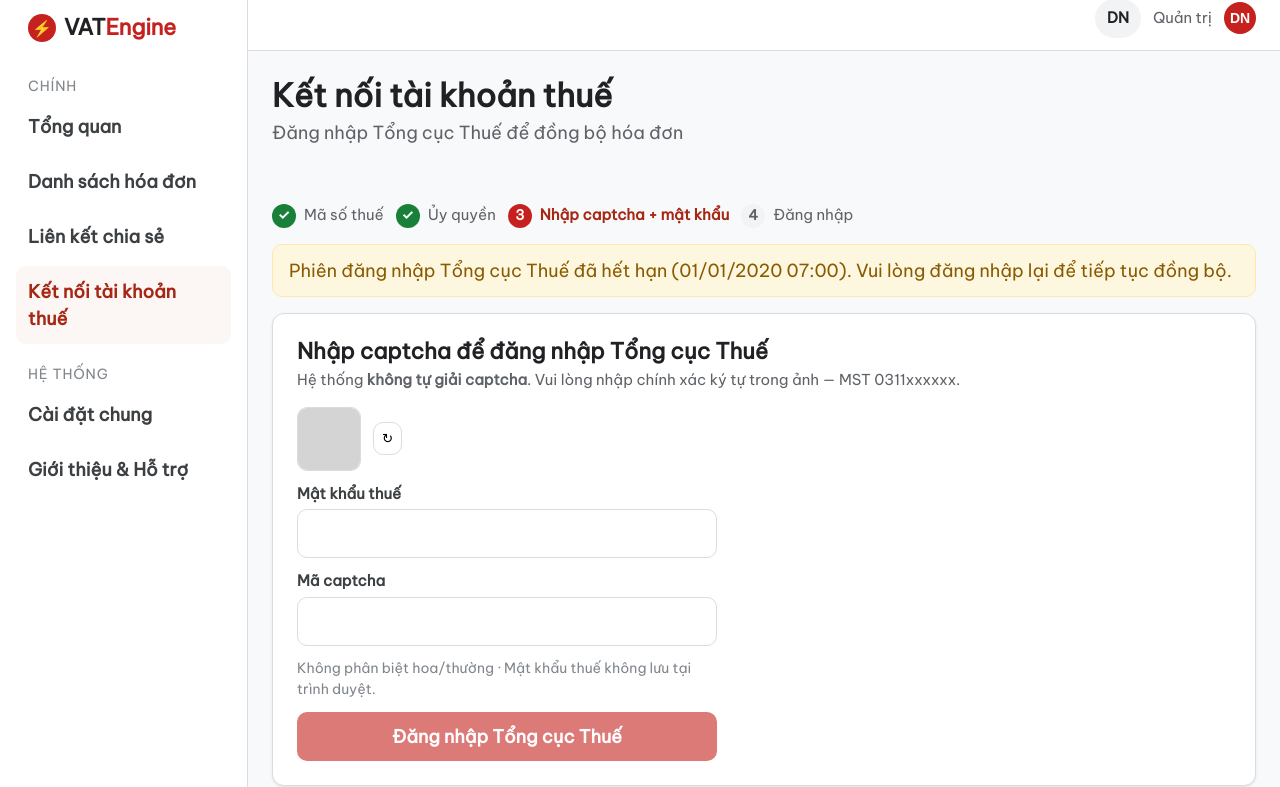
Test: S5 / U23-D4 — kết nối tài khoản thuế › (g) mất mạng khi đăng nhập GDT → 'Không kết nối được với Tổng cục Thuế'
Type "matkhauthue" into the password field labelled "Mật khẩu thuế" at point(507, 534), box top-left (297, 509), bottom-right (717, 558)
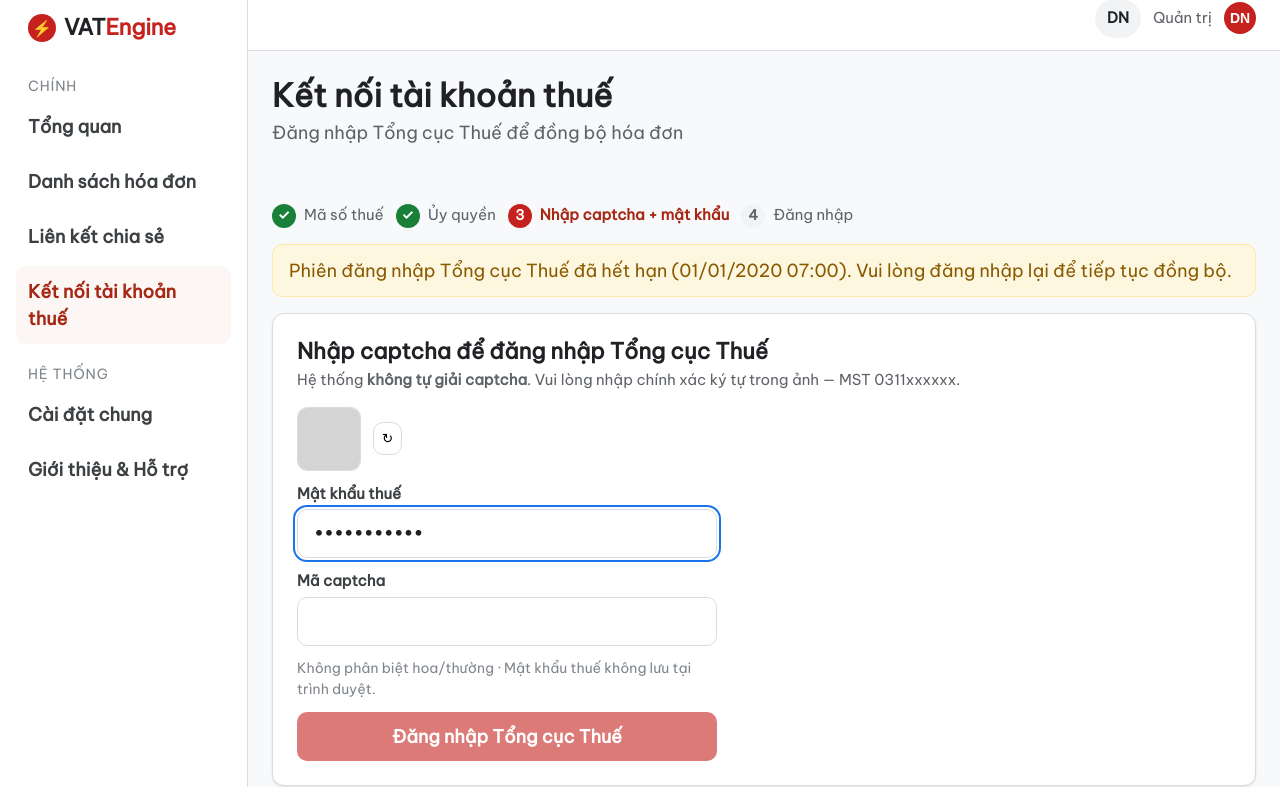
Type "7K9P2" into the field labelled "Mã captcha" at point(507, 621), box top-left (297, 596), bottom-right (717, 646)
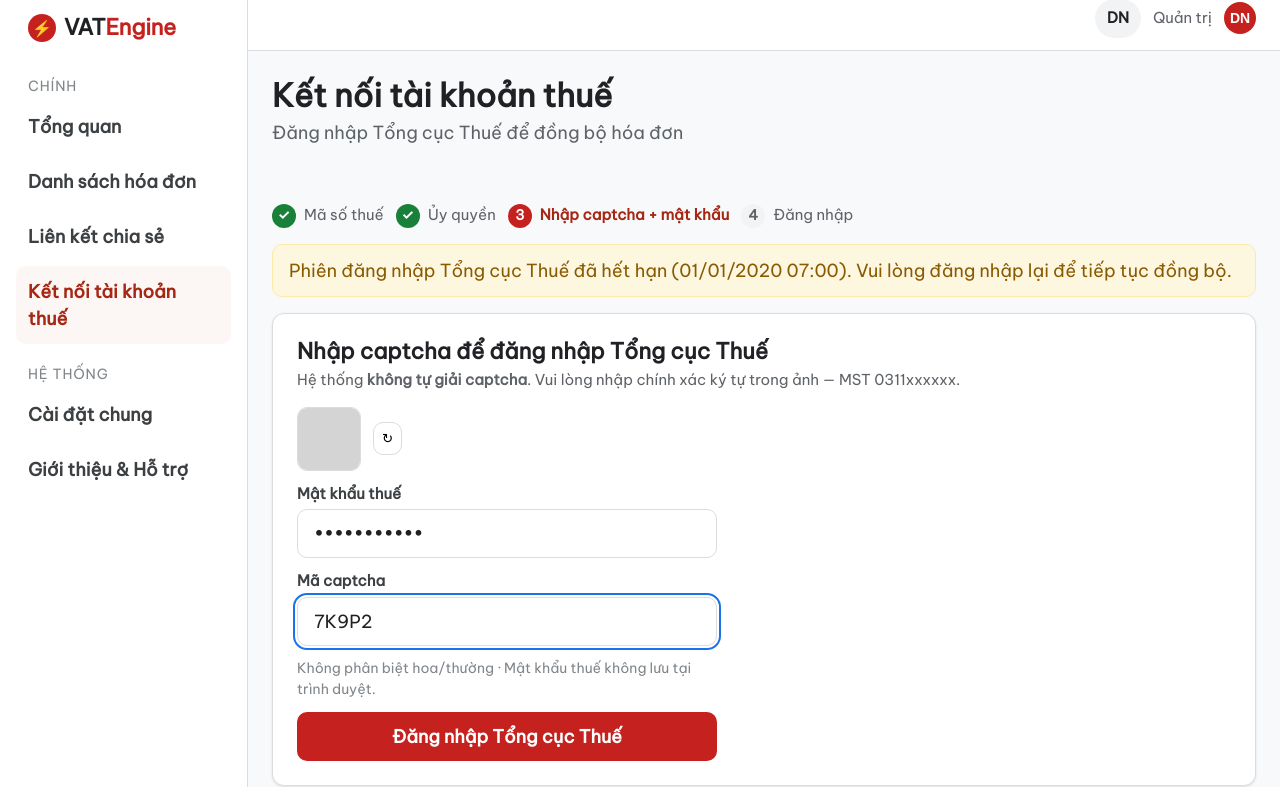
Click the button "Đăng nhập Tổng cục Thuế" at point(507, 736), box top-left (297, 712), bottom-right (717, 760)
(page scrolled)
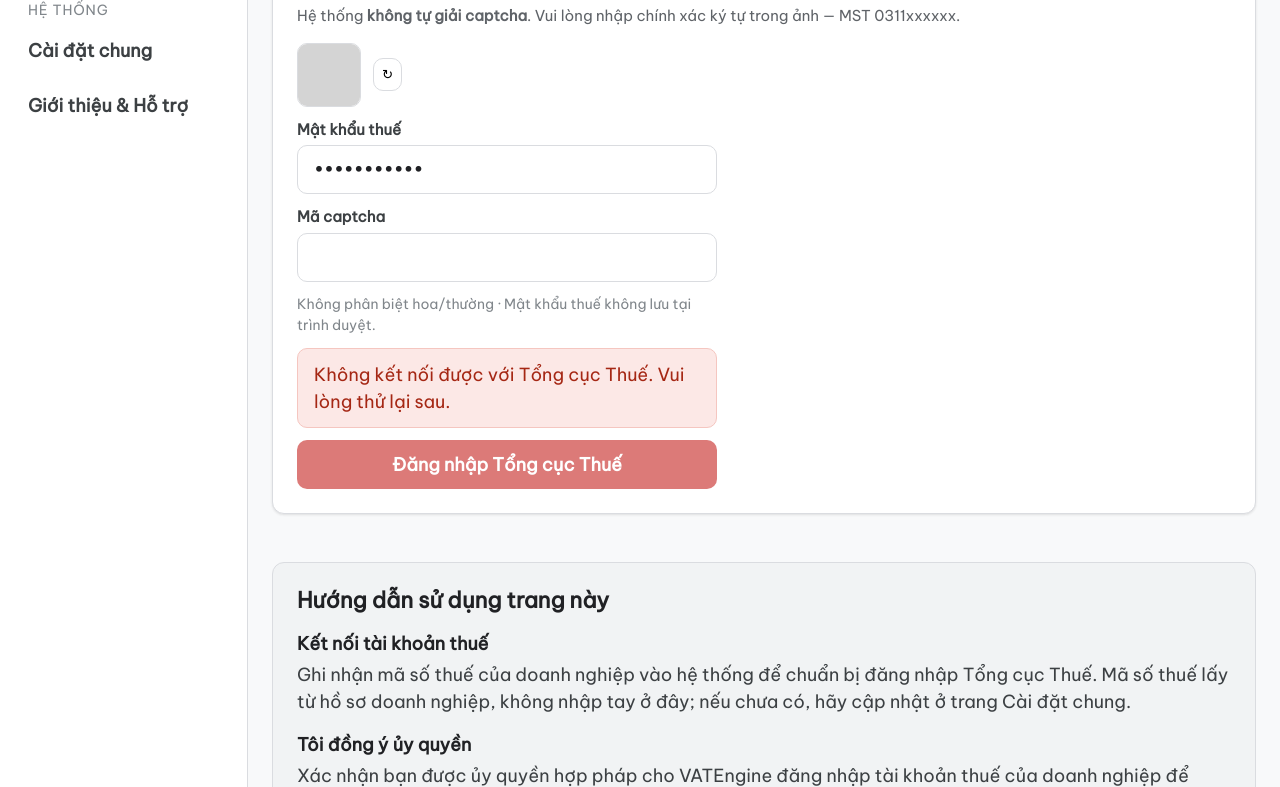
Result: the text "Không kết nối được với Tổng cục Thuế. Vui lòng thử lại sau." is shown at top-left (297, 348), bottom-right (717, 428)
